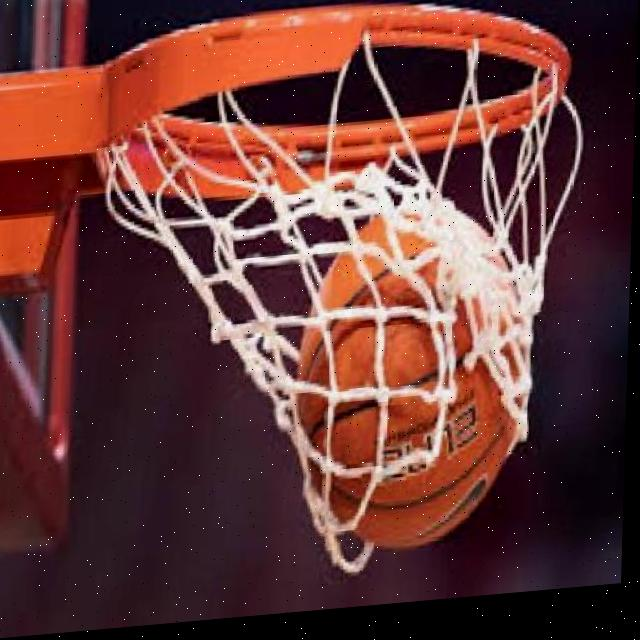Goal: (289, 198, 531, 558)
